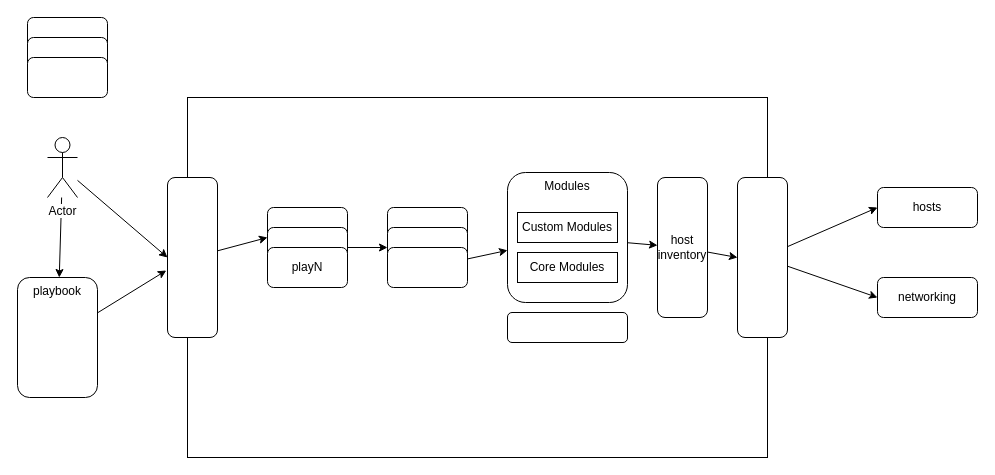
The diagram is 995 pixels wide and 475 high, and some of its shapes have lost their labels. The centre of each missing label's shape, as x and y in pixels:
ansible: the point at 192,257
Plugins: the point at 567,327
ssh kerberos ladp: the point at 762,257
taskN: the point at 427,267
